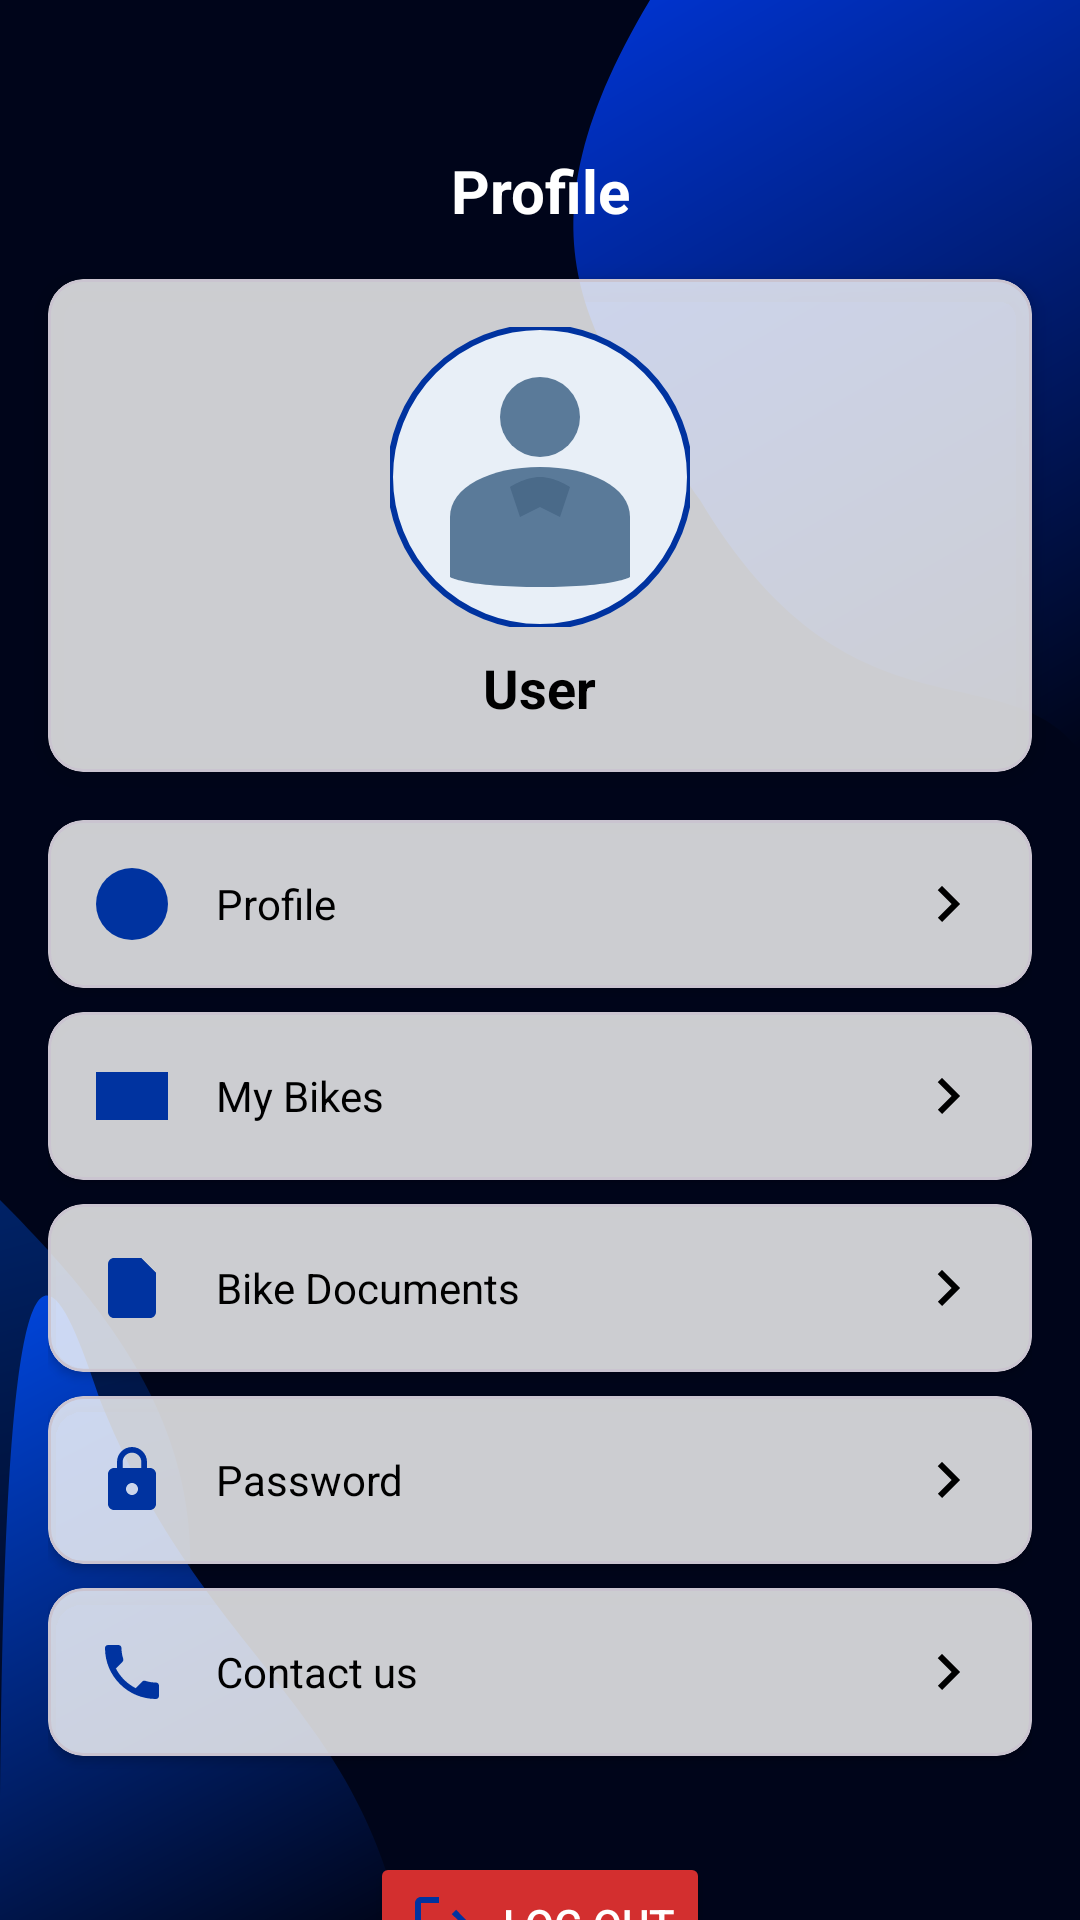

Point at icon controls on the screen. Image size 1080x1920, points as [x,y].
arrow forward: [949,904], [949,1096], [949,1288], [949,1480], [949,1672]
bike docs: [132,1288]
